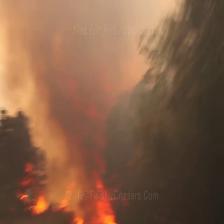fire: (20, 142, 121, 224)
